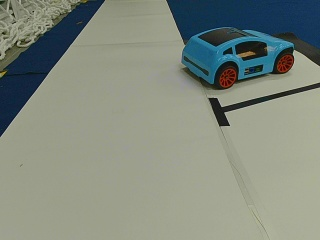car: (180, 27, 294, 87)
